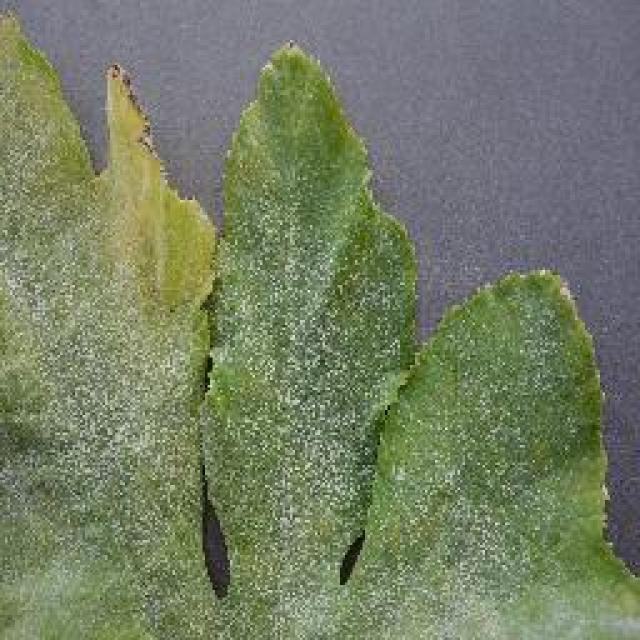Squ_Powdery_mildew: (10, 247, 470, 640)
